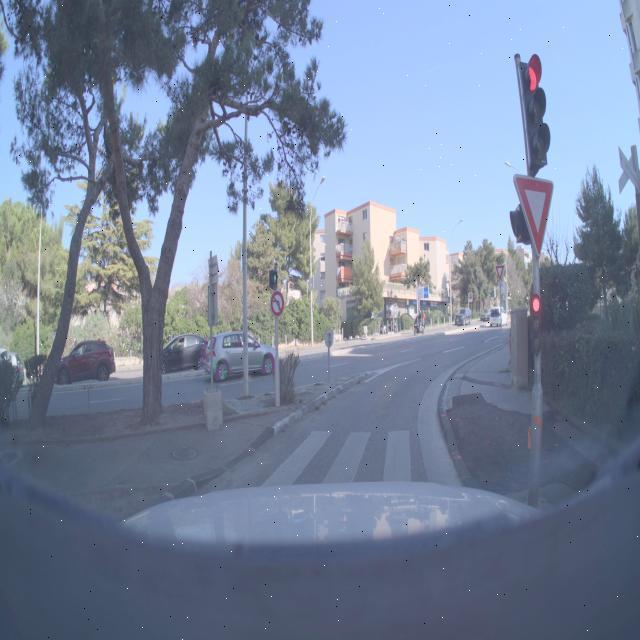red_light: (494, 40, 568, 182), (494, 279, 564, 379)
